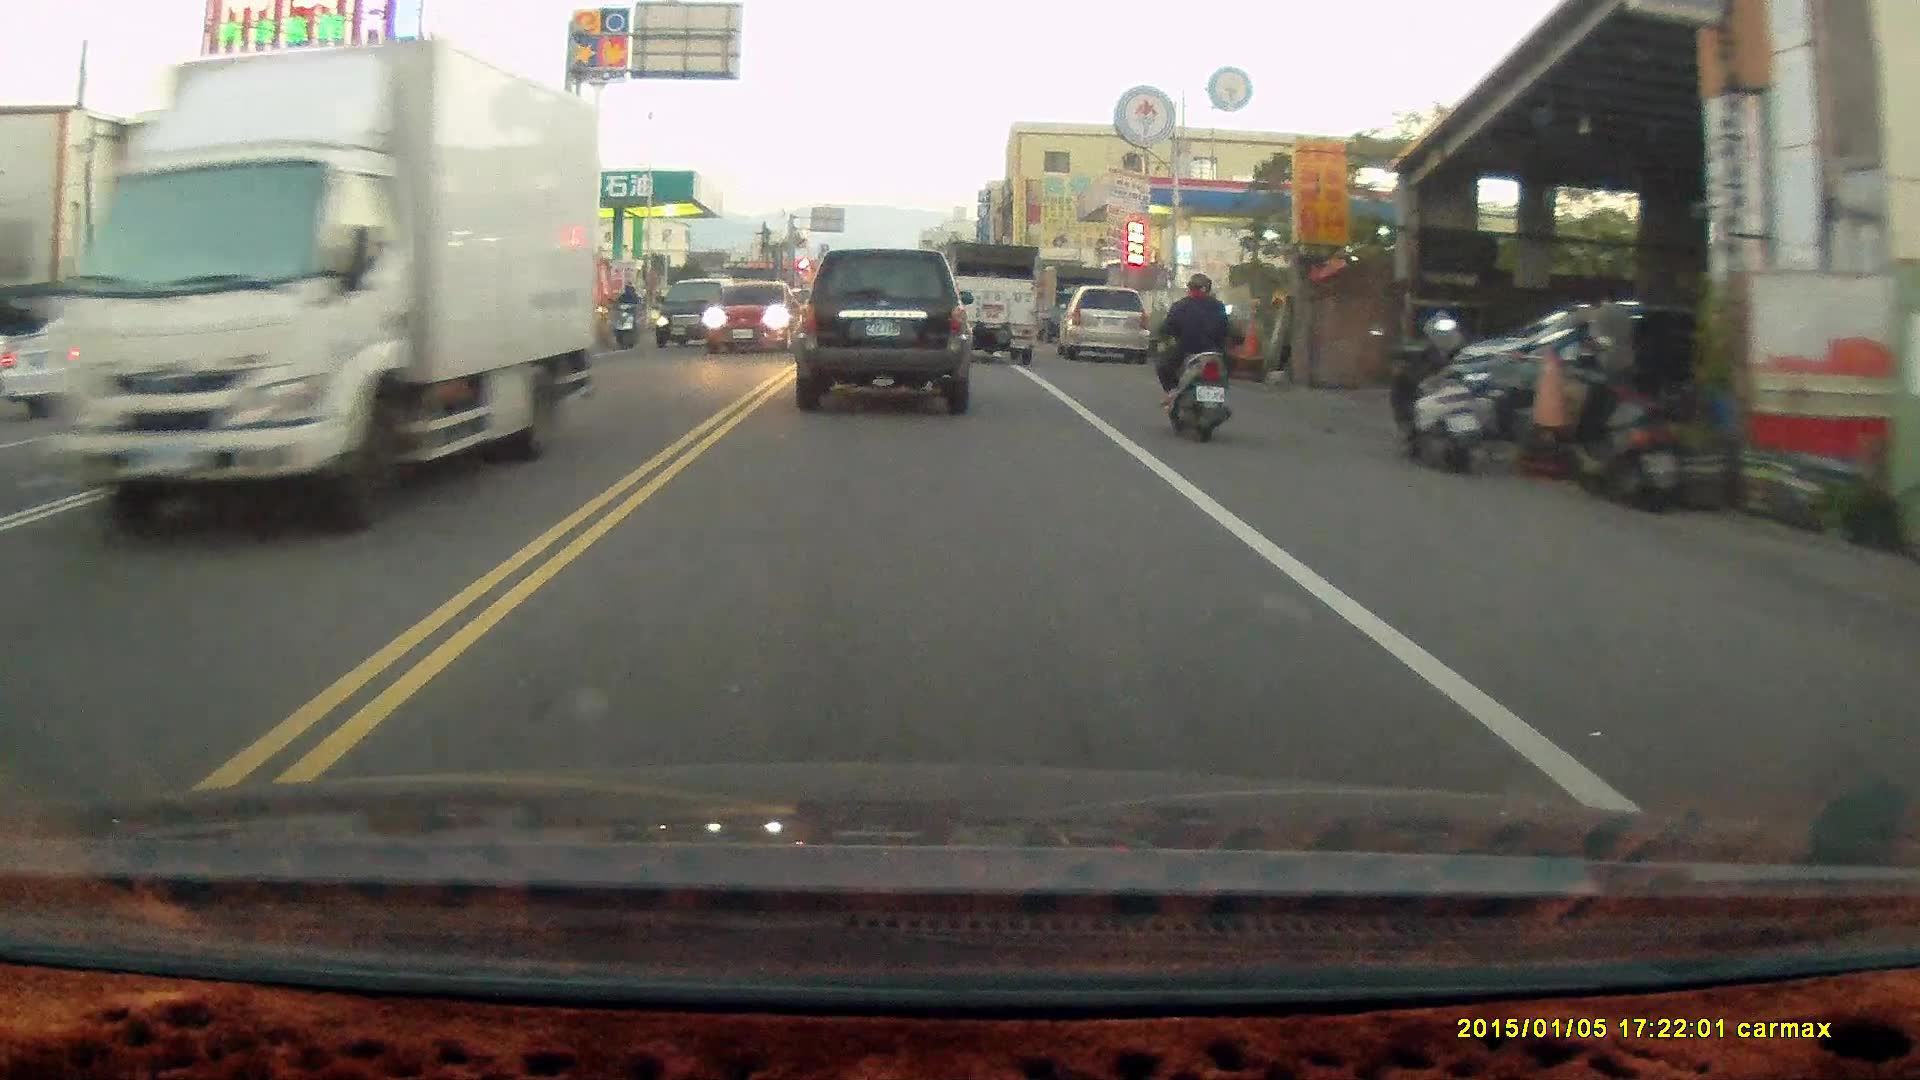pedestrian: (1588, 281, 1640, 426)
rider: (1149, 269, 1239, 443), (608, 278, 643, 348)
vehicle: (29, 53, 590, 536), (790, 245, 974, 415), (947, 238, 1040, 363), (701, 283, 806, 356), (1062, 284, 1149, 365), (654, 276, 746, 349)
